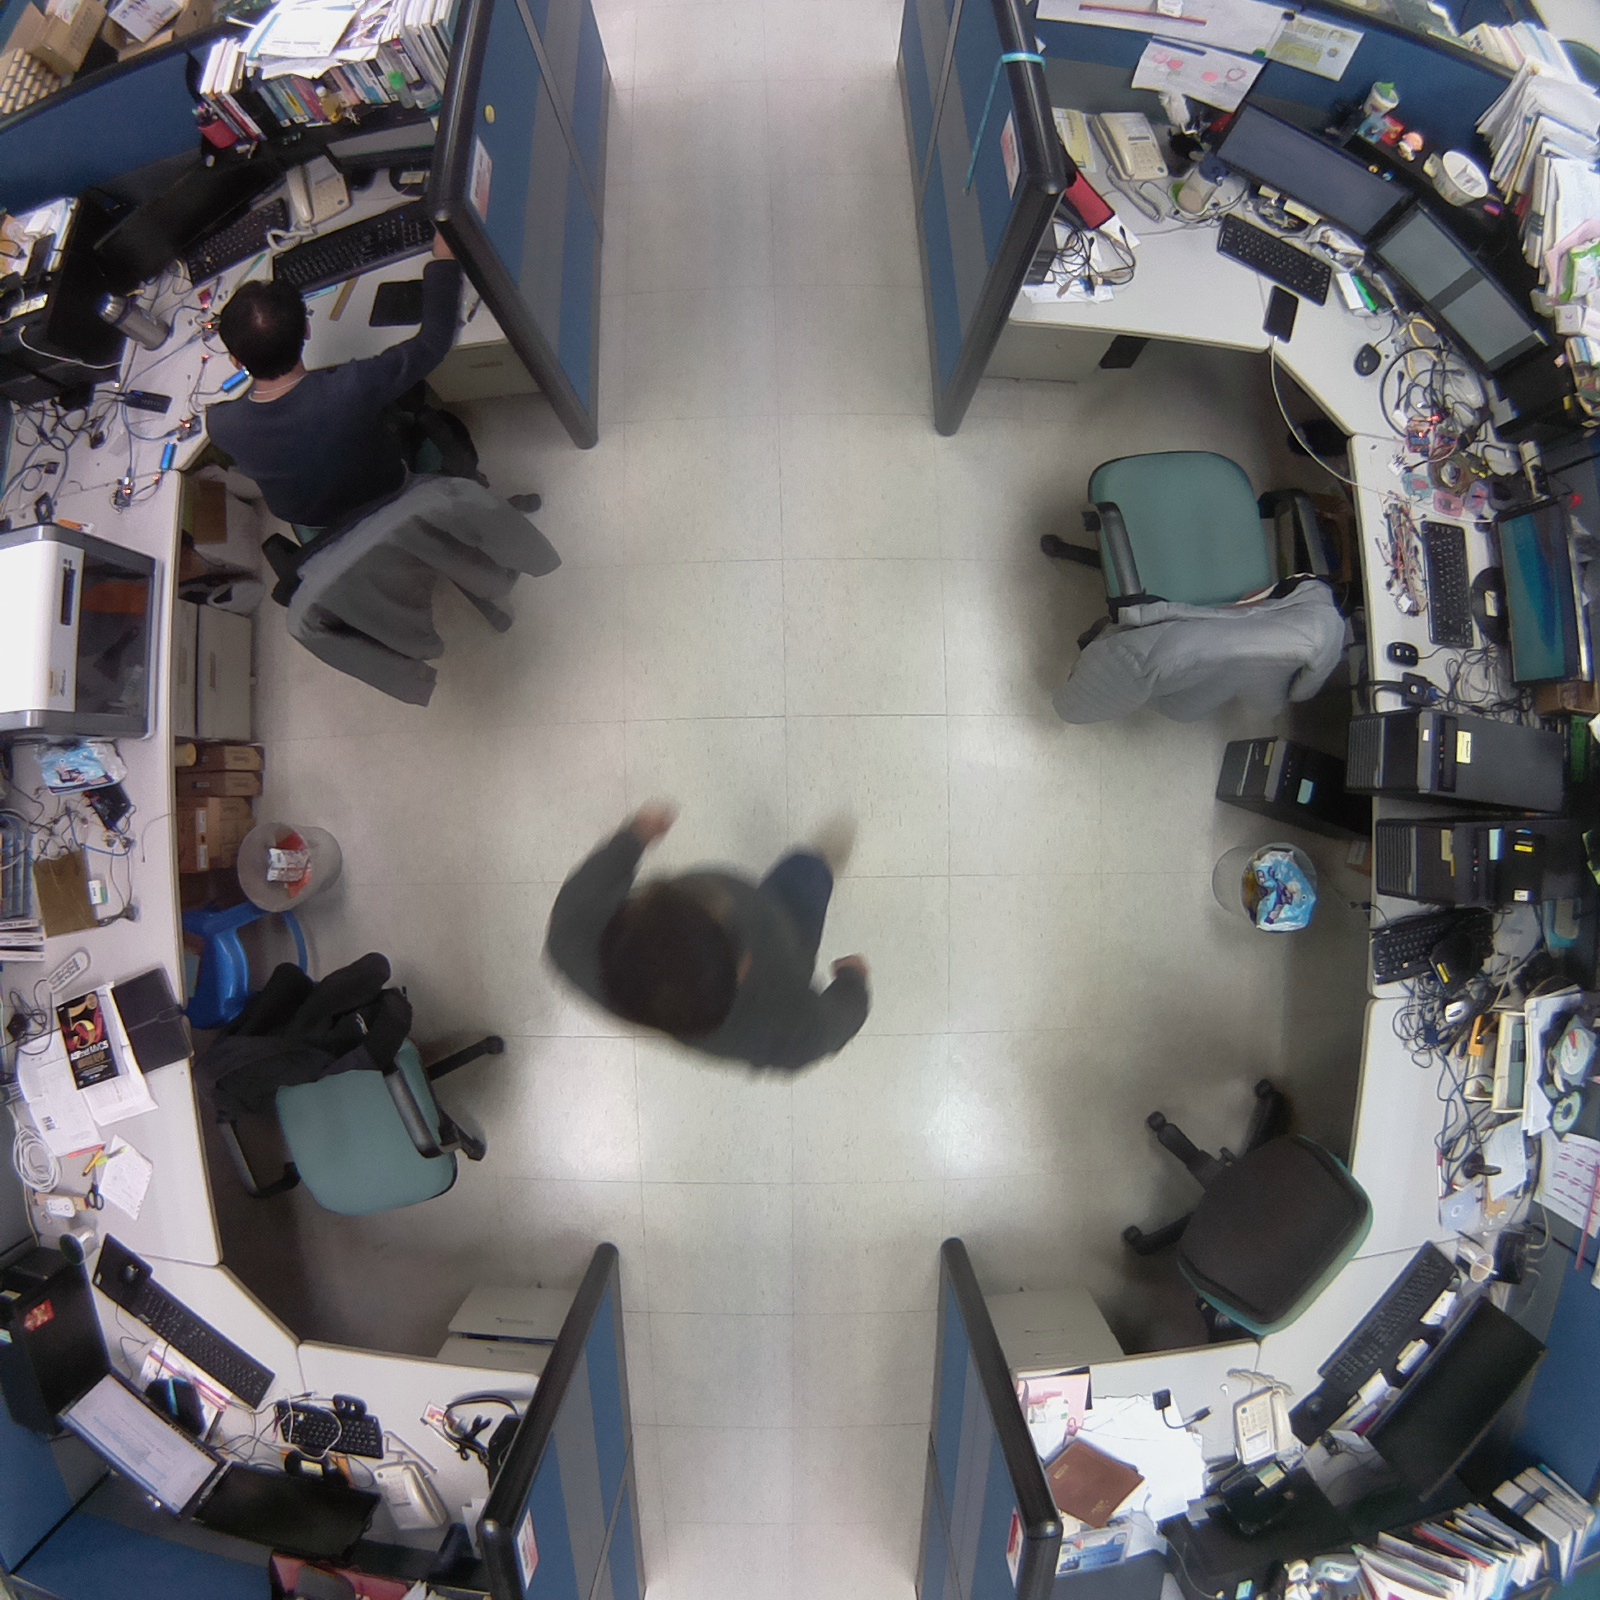chair: (1022, 427, 1358, 755), (170, 947, 527, 1234), (1104, 1052, 1381, 1352)
head: (585, 865, 755, 1061), (208, 268, 321, 387)
sitting: (199, 277, 581, 734)
walking: (524, 784, 884, 1091)
